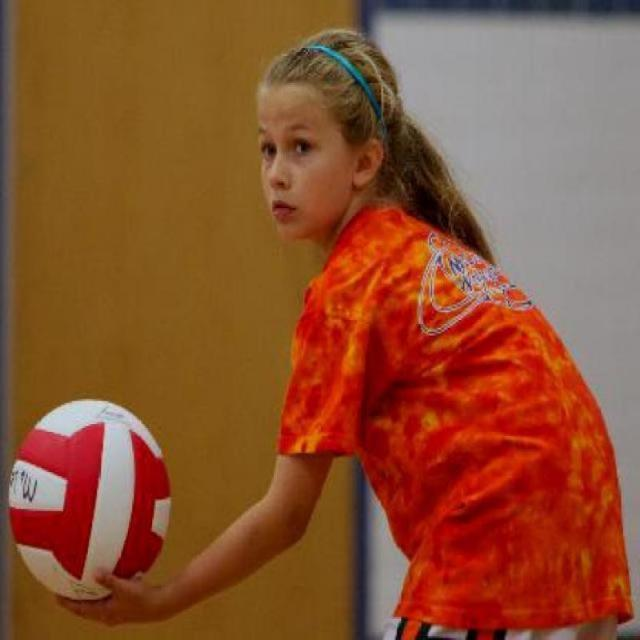volleyball: (6, 395, 174, 600)
